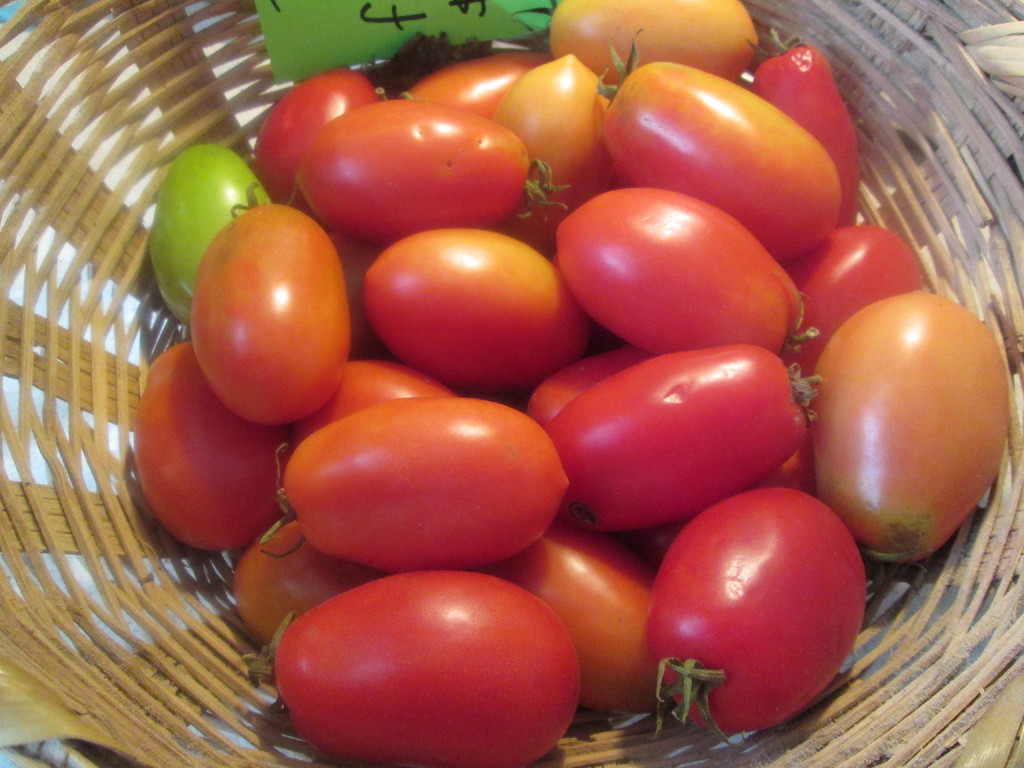Tomato: (134, 0, 1009, 768)
